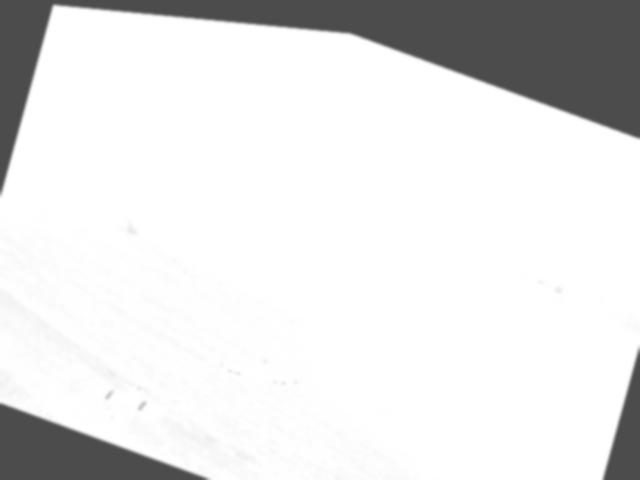hedef: (66, 328, 196, 459), (212, 333, 312, 419)
